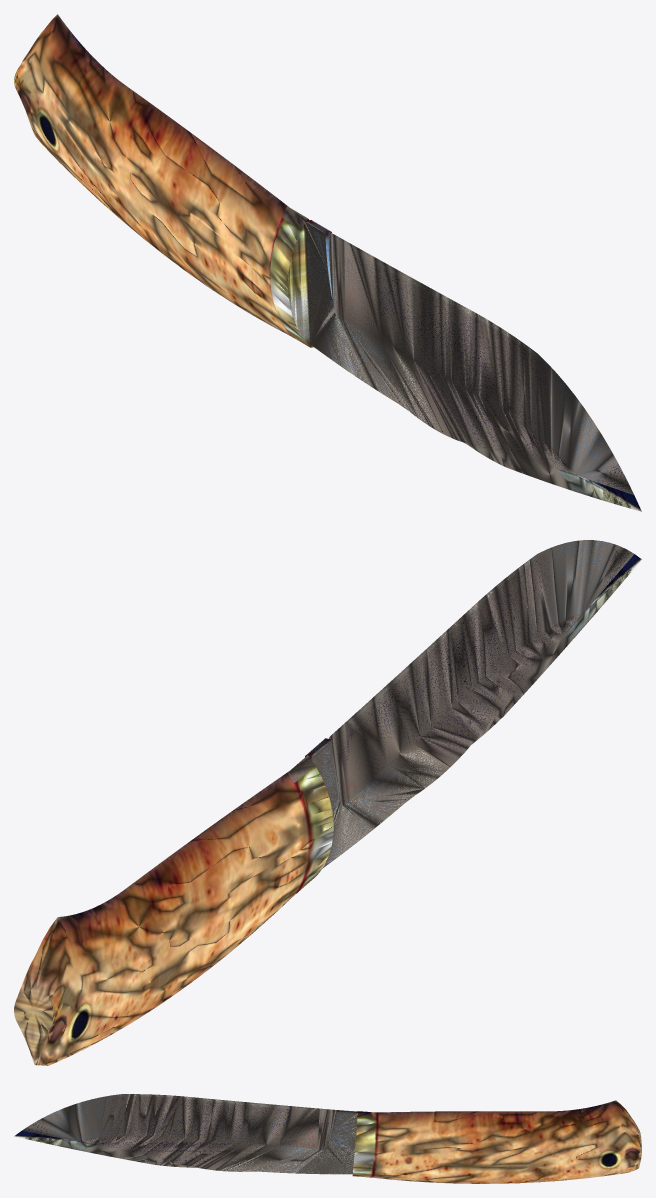
File: model_align.obj
3 views of the same model, one above another, from view 1: azimuth 30°, elevation 25°; view 2: azimuth 150°, elevation 25°; view 3: azimuth 270°, elevation 25° (orthographic). The views are drawn at different scales.
Size of the model in its own units: 0.0092 by 0.0334 by 0.213.
4 materials, 4 textured.
